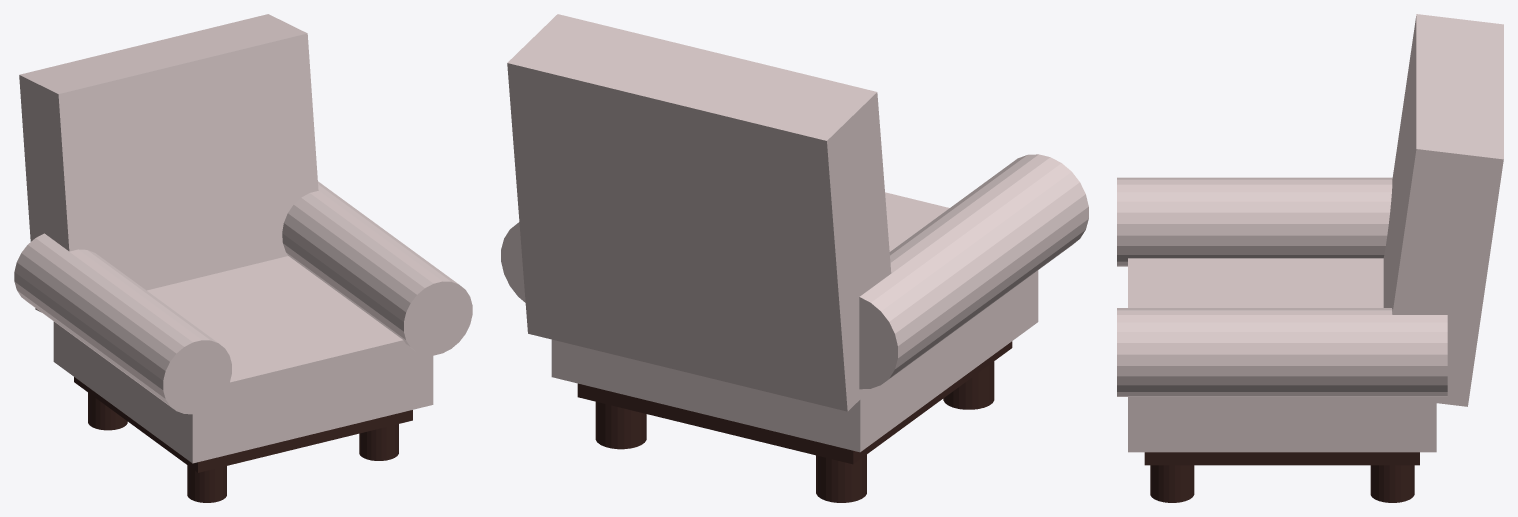
The model's file is coach.gltf.
The picture shows the model from 3 angles, left to right: view 1: azimuth 30°, elevation 25°; view 2: azimuth 150°, elevation 25°; view 3: azimuth 270°, elevation 25°; orthographic projection. The views are drawn at different scales.
Visible parts, largest first — view 1: cube (×3), cylinder (×5); view 2: cube (×3), cylinder (×5); view 3: cube (×3), cylinder (×4).
Part boxes in pixels (x1,y1,x2,y2): cube (×3): (19,14,433,472); cylinder (×5): (14,181,472,502); cube (×3): (507,14,1038,464); cylinder (×5): (501,154,1088,502); cube (×3): (1128,14,1503,465); cylinder (×4): (1117,177,1447,502).
Bounding box in the file's own units: 1.12 × 1.14 × 1.1.
Materials: 2 (2 with a texture image).
